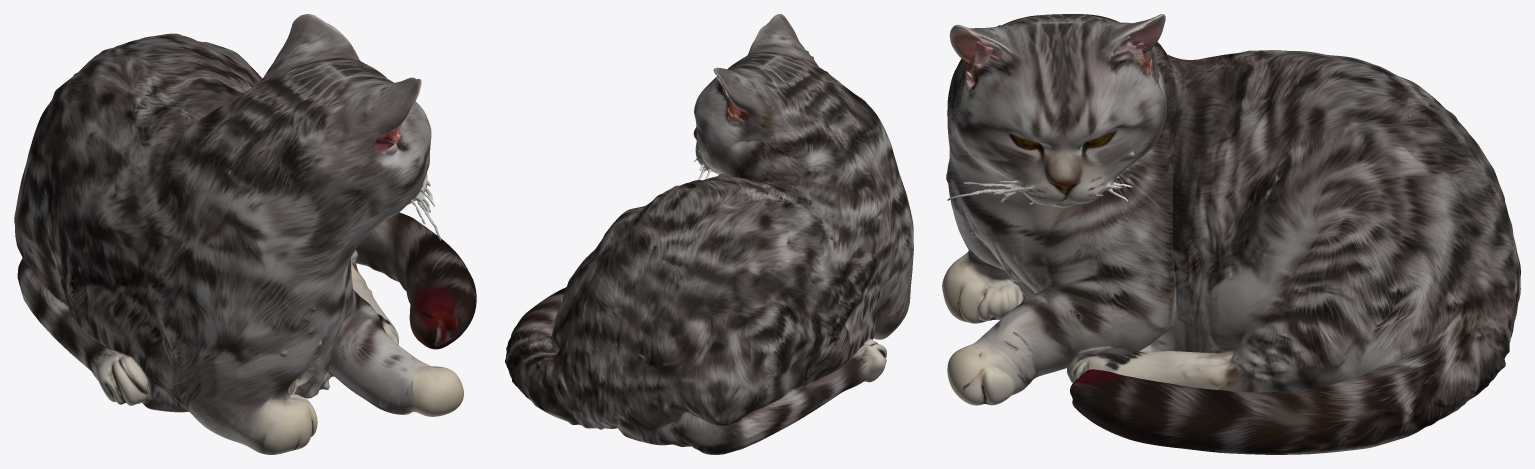
The model's file is cat_sleep.glb.
The picture shows the model from 3 angles, left to right: view 1: azimuth 30°, elevation 25°; view 2: azimuth 150°, elevation 25°; view 3: azimuth 270°, elevation 25°; orthographic projection. The views are drawn at different scales.
Visible parts, largest first — view 1: tripo_node_4f287293-bb4a-4e0b-bc95-4e011f490452; view 2: tripo_node_4f287293-bb4a-4e0b-bc95-4e011f490452; view 3: tripo_node_4f287293-bb4a-4e0b-bc95-4e011f490452.
Part boxes in pixels (bbox=[...]): tripo_node_4f287293-bb4a-4e0b-bc95-4e011f490452: bbox=[14, 14, 476, 454]; tripo_node_4f287293-bb4a-4e0b-bc95-4e011f490452: bbox=[505, 14, 913, 454]; tripo_node_4f287293-bb4a-4e0b-bc95-4e011f490452: bbox=[942, 14, 1520, 454].
Bounding box in the file's own units: 0.8216 × 0.7008 × 1.
1 material, 1 textured.
